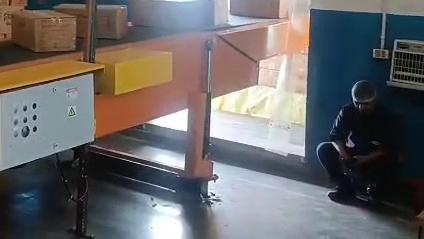box: (130, 0, 228, 30), (11, 10, 75, 52), (96, 6, 127, 37), (55, 6, 87, 36), (230, 0, 287, 16)
